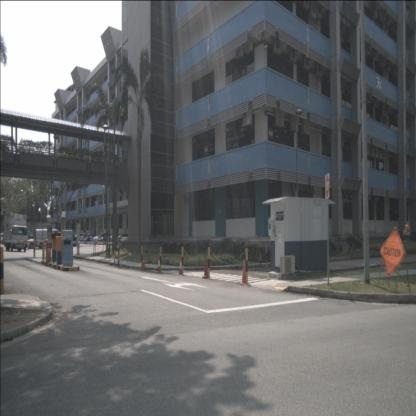cone: (240, 258, 249, 286), (202, 256, 210, 278), (176, 256, 184, 276), (140, 254, 147, 270), (156, 254, 161, 274), (113, 249, 116, 268)
